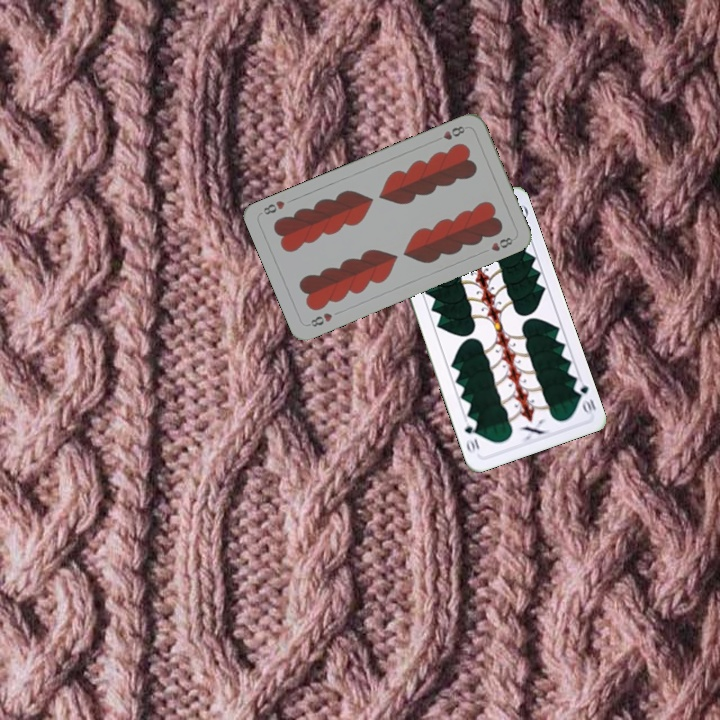G10: (570, 379, 598, 417)
H8: (431, 122, 467, 144), (304, 309, 335, 329)
